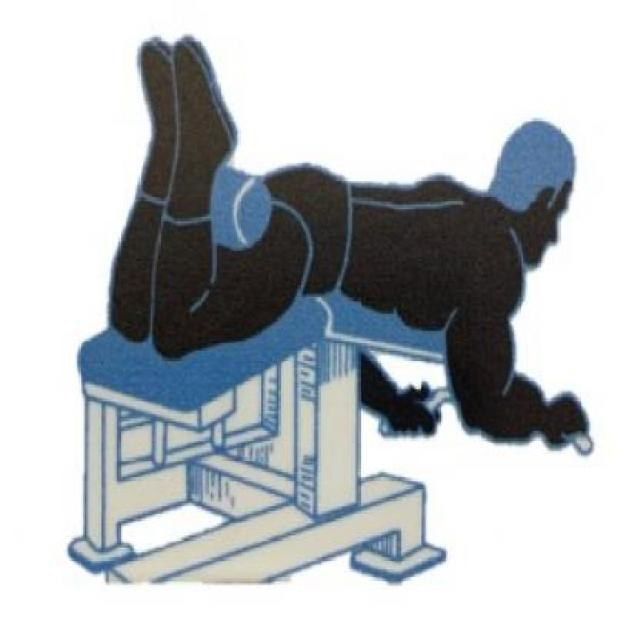reg curl machine: (57, 20, 598, 602)
